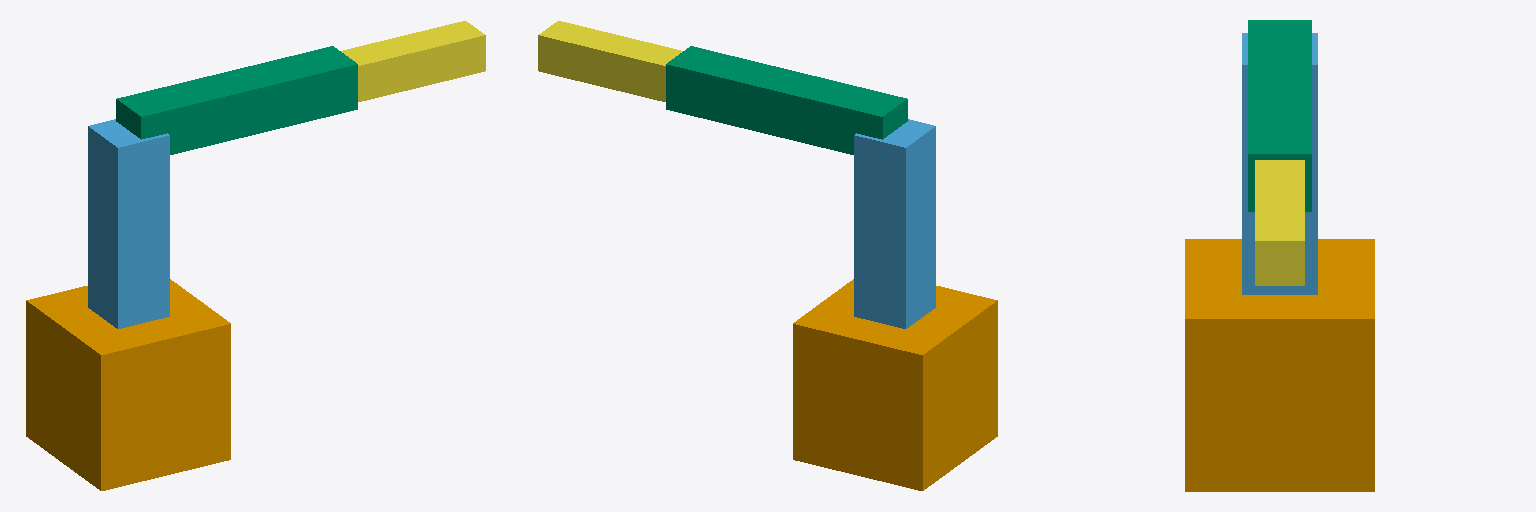
URDF robot description (arm3):
<?xml version="1.0"?>
<robot name="arm3">
  <link name="base_link">
    <visual><geometry><mesh filename="package://arm/meshes/base.stl"/></geometry></visual>
  </link>
  <link name="link1">
    <visual><geometry><mesh filename="package://arm/meshes/link1.stl"/></geometry></visual>
  </link>
  <link name="link2">
    <visual><geometry><mesh filename="package://arm/meshes/link2.stl"/></geometry></visual>
  </link>
  <link name="link3">
    <visual><geometry><mesh filename="link3.stl" scale="1 1 1"/></geometry></visual>
  </link>
  <link name="tool0"/>
  <joint name="j1" type="revolute">
    <parent link="base_link"/><child link="link1"/>
    <origin xyz="0 0 0.3" rpy="0 0 0"/><axis xyz="0 0 1"/>
    <limit lower="-1.5707963267948966" upper="1.5707963267948966" velocity="1.5" effort="100"/>
  </joint>
  <joint name="j2" type="revolute">
    <parent link="link1"/><child link="link2"/>
    <origin xyz="0 0 0.4" rpy="0 0 0"/><axis xyz="0 1 0"/>
    <limit lower="-2.0" upper="2.0" velocity="1.2" effort="100"/>
  </joint>
  <joint name="j3" type="revolute">
    <parent link="link2"/><child link="link3"/>
    <origin xyz="0.5 0 0" rpy="0 0 0"/><axis xyz="0 1 0"/>
    <limit lower="-2.5" upper="2.5" velocity="2.0" effort="100"/>
  </joint>
  <joint name="tool_joint" type="fixed">
    <parent link="link3"/><child link="tool0"/>
    <origin xyz="0.3 0 0" rpy="0 0 0"/>
  </joint>
</robot>

--- Render facts (derived) ---
3 views of the same robot in one strip: view 1: azimuth 30°, elevation 25°; view 2: azimuth 150°, elevation 25°; view 3: azimuth 270°, elevation 25° (orthographic).
Robot: arm3 — 5 links, 4 joints (3 revolute, 1 fixed); root link base_link; default pose: all joints at 0.
Links seen in each view (by area): view 1: base_link, link1, link2, link3; view 2: base_link, link1, link2, link3; view 3: base_link, link2, link3, link1.
Link boxes in pixels (x1,y1,x2,y2): base_link: [26, 279, 230, 490]; link1: [88, 119, 169, 328]; link2: [116, 46, 357, 154]; link3: [341, 21, 485, 101]; base_link: [793, 279, 997, 490]; link1: [854, 119, 935, 328]; link2: [666, 46, 907, 154]; link3: [538, 21, 682, 101]; base_link: [1185, 239, 1374, 491]; link2: [1248, 20, 1311, 211]; link3: [1255, 160, 1304, 285]; link1: [1242, 33, 1317, 294].
Size in the robot's own frame: 0.95 by 0.3 by 0.75 metres.
Meshes: 4 distinct files referenced, 4 mesh visuals loaded (4 ASCII STL).
